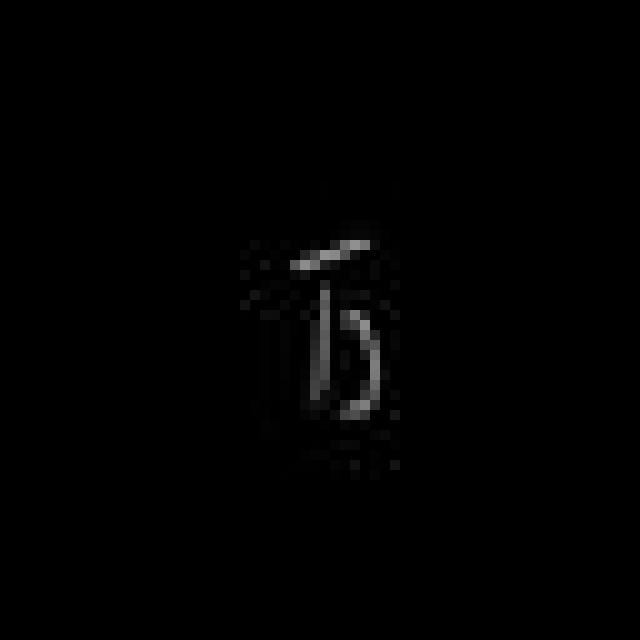10000 -a ten thousand-: (278, 223, 401, 435)
